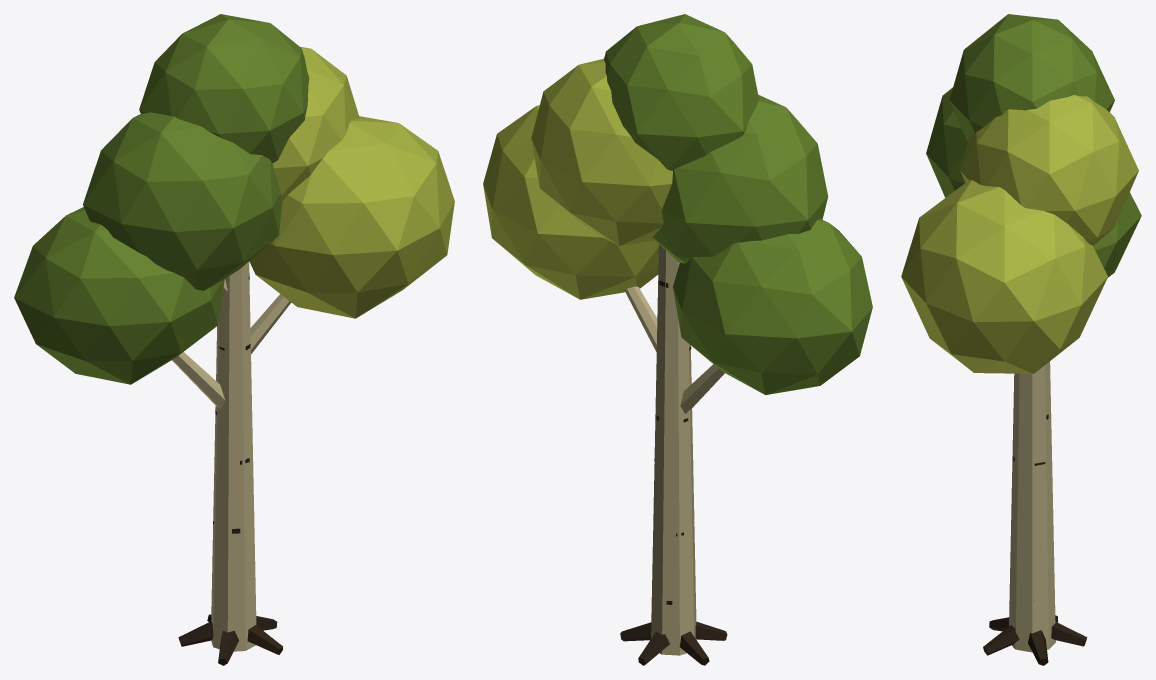
File: birch_tree.obj
The picture shows the model from 3 angles, left to right: view 1: azimuth 30°, elevation 25°; view 2: azimuth 150°, elevation 25°; view 3: azimuth 270°, elevation 25°; orthographic projection.
Visible parts, largest first — view 1: birch_tree_MODEL; view 2: birch_tree_MODEL; view 3: birch_tree_MODEL.
Boxes of the visible parts, x1,y1,x2,y2 form: birch_tree_MODEL: [14, 14, 454, 665]; birch_tree_MODEL: [483, 14, 872, 665]; birch_tree_MODEL: [901, 14, 1141, 665].
Size of the model in its own units: 5.68 by 8.7 by 3.05.
